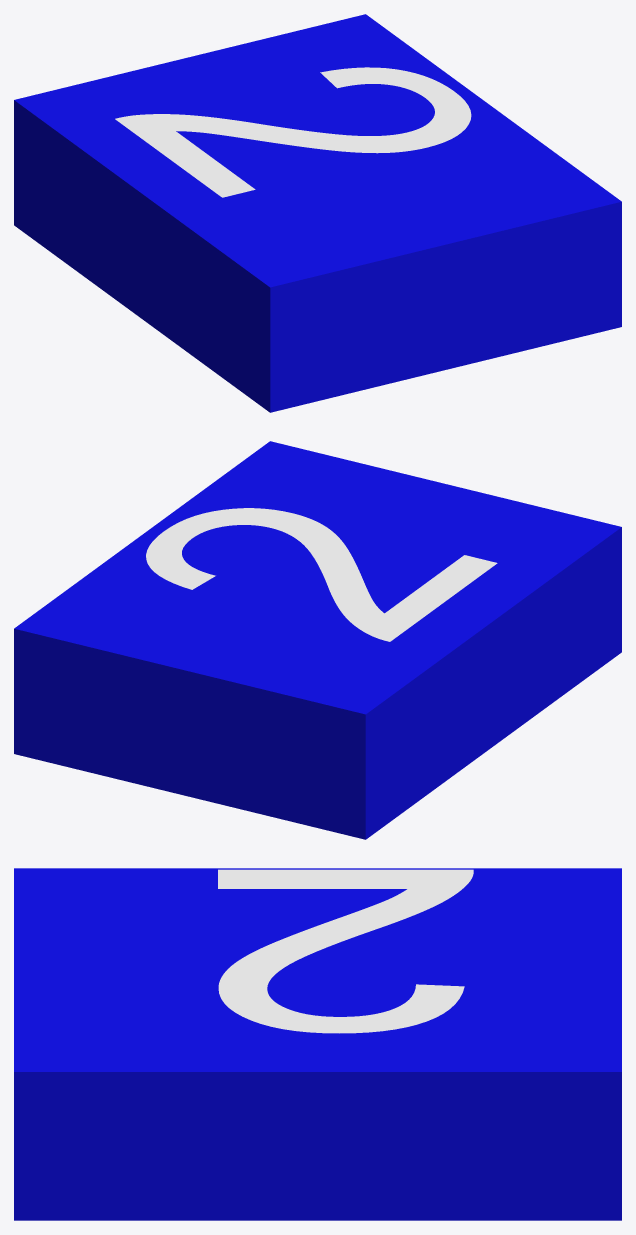
File: number2.FBX
3 views of the same model, one above another, from view 1: azimuth 30°, elevation 25°; view 2: azimuth 150°, elevation 25°; view 3: azimuth 270°, elevation 25° (orthographic). The views are drawn at different scales.
Parts seen in each view (by area): view 1: Text001; view 2: Text001; view 3: Text001.
Boxes of the visible parts, x1,y1,x2,y2 form: Text001: (14, 14, 621, 412); Text001: (14, 441, 621, 839); Text001: (14, 868, 621, 1220).
Size of the model in its own units: 18.63 by 7.23 by 23.5.
